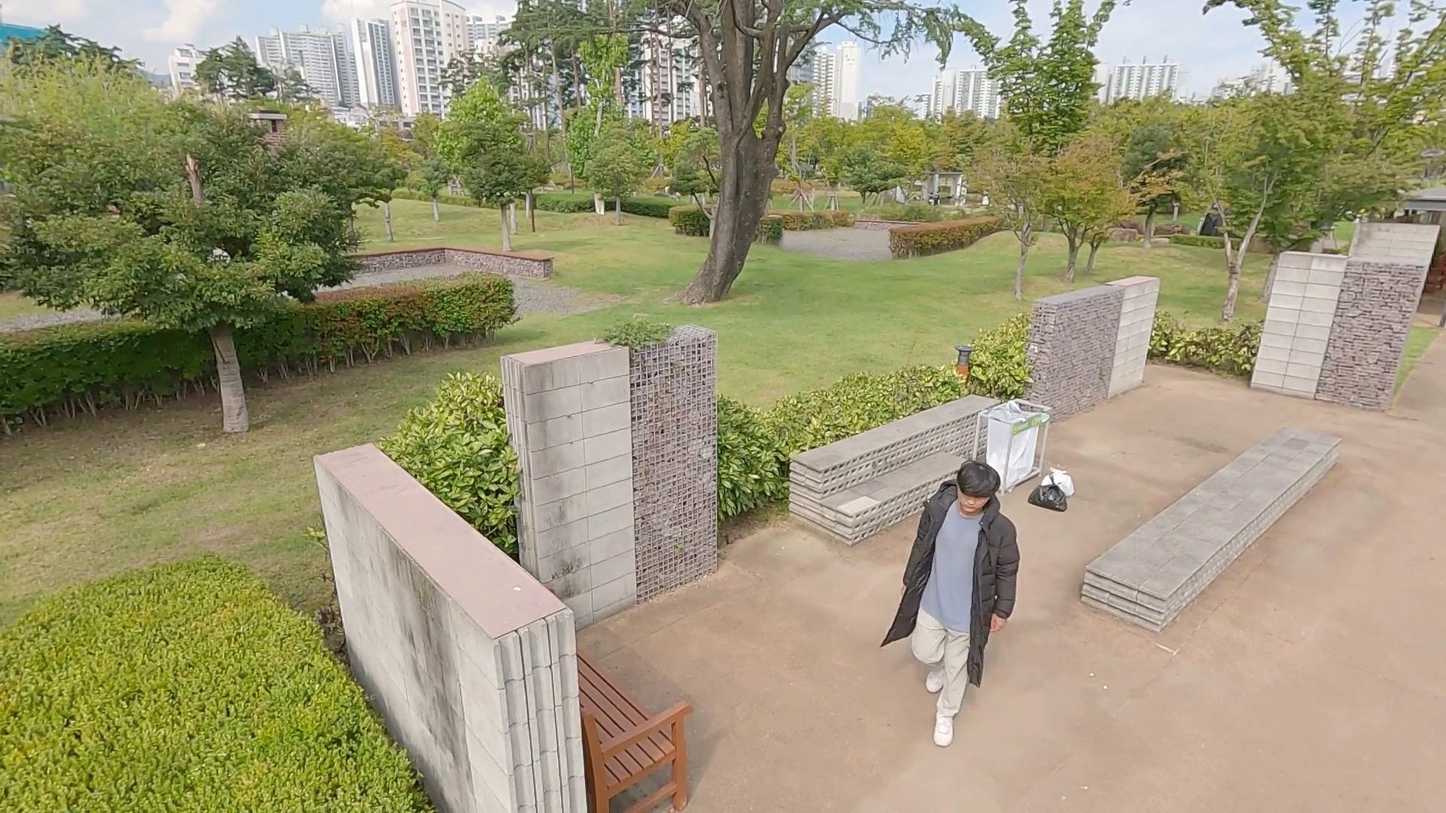person: (890, 456, 1021, 753)
trash: (1029, 466, 1071, 513), (1040, 458, 1078, 503)
